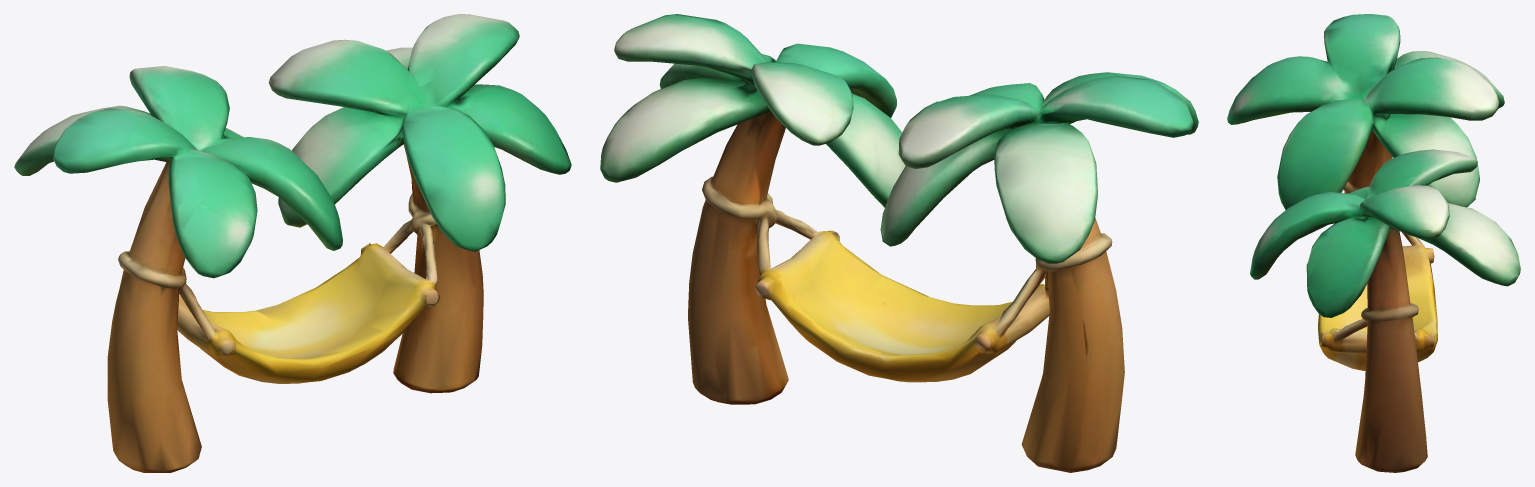
Rendered from palm-hammock.glb.
The picture shows the model from 3 angles, left to right: view 1: azimuth 30°, elevation 25°; view 2: azimuth 150°, elevation 25°; view 3: azimuth 270°, elevation 25°; orthographic projection. The views are drawn at different scales.
Visible parts, largest first — view 1: tripo_node_ab71700b-dd13-41bb-a07a-919de3f3296a; view 2: tripo_node_ab71700b-dd13-41bb-a07a-919de3f3296a; view 3: tripo_node_ab71700b-dd13-41bb-a07a-919de3f3296a.
Part boxes in pixels (x1,y1,x2,y2): tripo_node_ab71700b-dd13-41bb-a07a-919de3f3296a: [14, 14, 571, 472]; tripo_node_ab71700b-dd13-41bb-a07a-919de3f3296a: [600, 14, 1198, 472]; tripo_node_ab71700b-dd13-41bb-a07a-919de3f3296a: [1227, 14, 1520, 472].
Size of the model in its own units: 0.9993 by 0.6777 by 0.601.
1 material, 1 textured.
